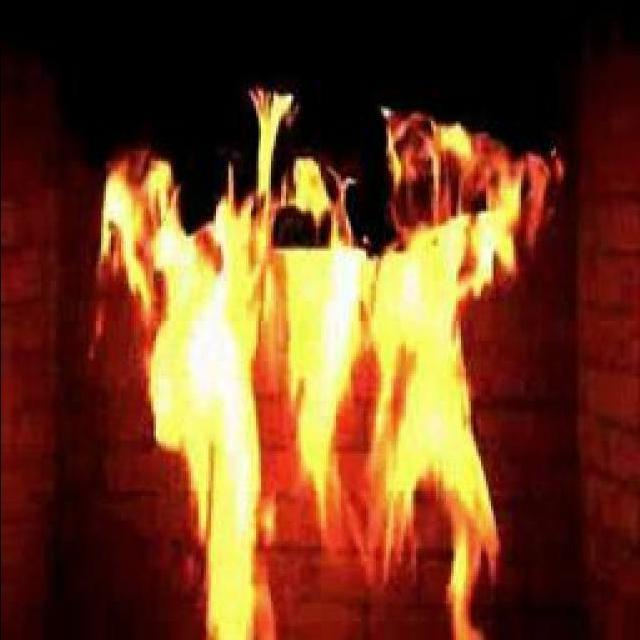Fire: (111, 147, 486, 592)
